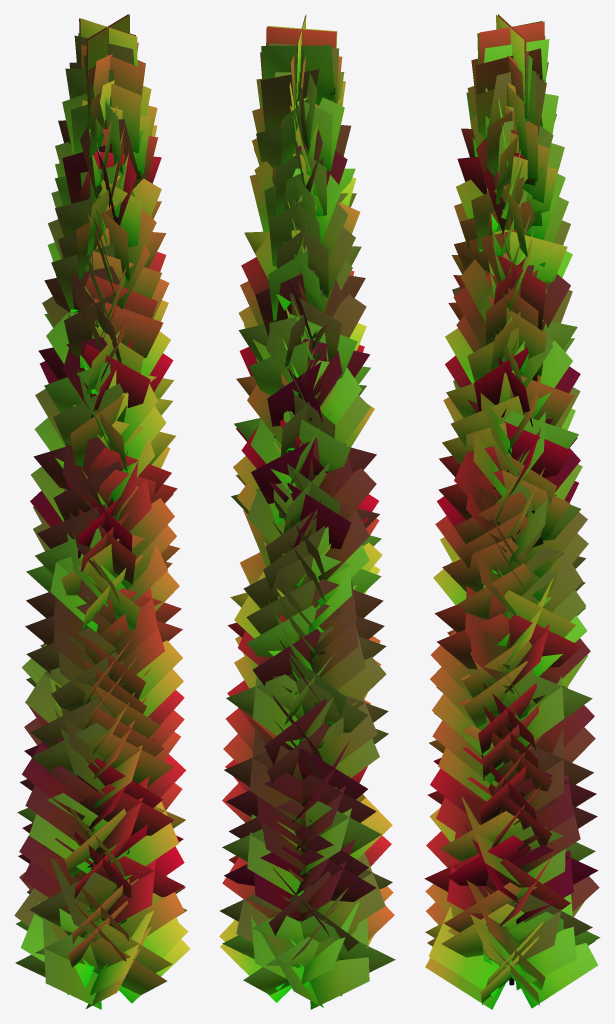
File: URP_P4_Tree_9_LOD_2.fbx
The picture shows the model from 3 angles, left to right: view 1: azimuth 30°, elevation 25°; view 2: azimuth 150°, elevation 25°; view 3: azimuth 270°, elevation 25°; orthographic projection.
Parts seen in each view (by area): view 1: Tree_9_LOD_2; view 2: Tree_9_LOD_2; view 3: Tree_9_LOD_2.
Boxes of the visible parts, x1=… form: Tree_9_LOD_2: x1=14, y1=14, x2=190, y2=1009; Tree_9_LOD_2: x1=219, y1=15, x2=395, y2=1009; Tree_9_LOD_2: x1=424, y1=14, x2=600, y2=1009.
Size of the model in its own units: 211 by 1288 by 211.
